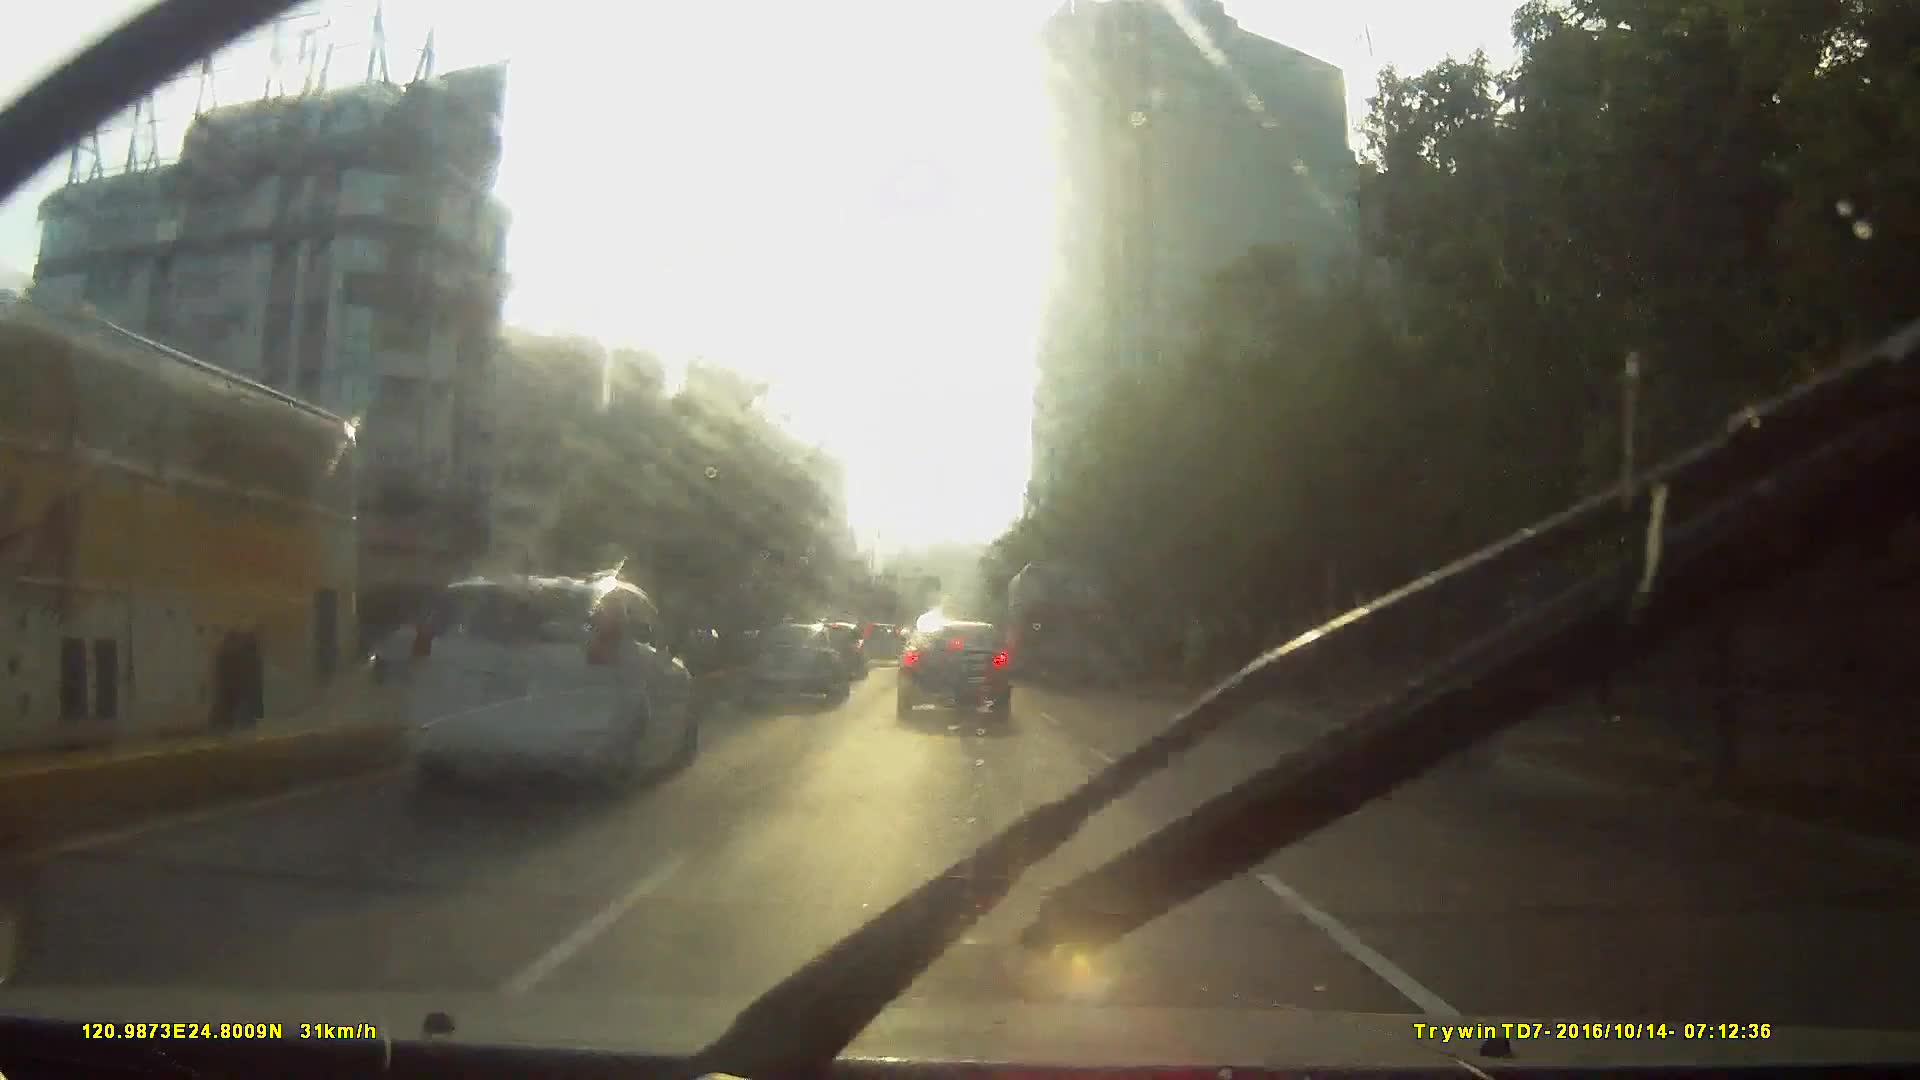pedestrian: (1562, 582, 1634, 734)
vehicle: (1, 283, 383, 787), (250, 556, 684, 868), (397, 567, 696, 794), (1007, 559, 1113, 686), (891, 614, 1009, 723), (738, 620, 847, 704), (854, 616, 903, 665)
